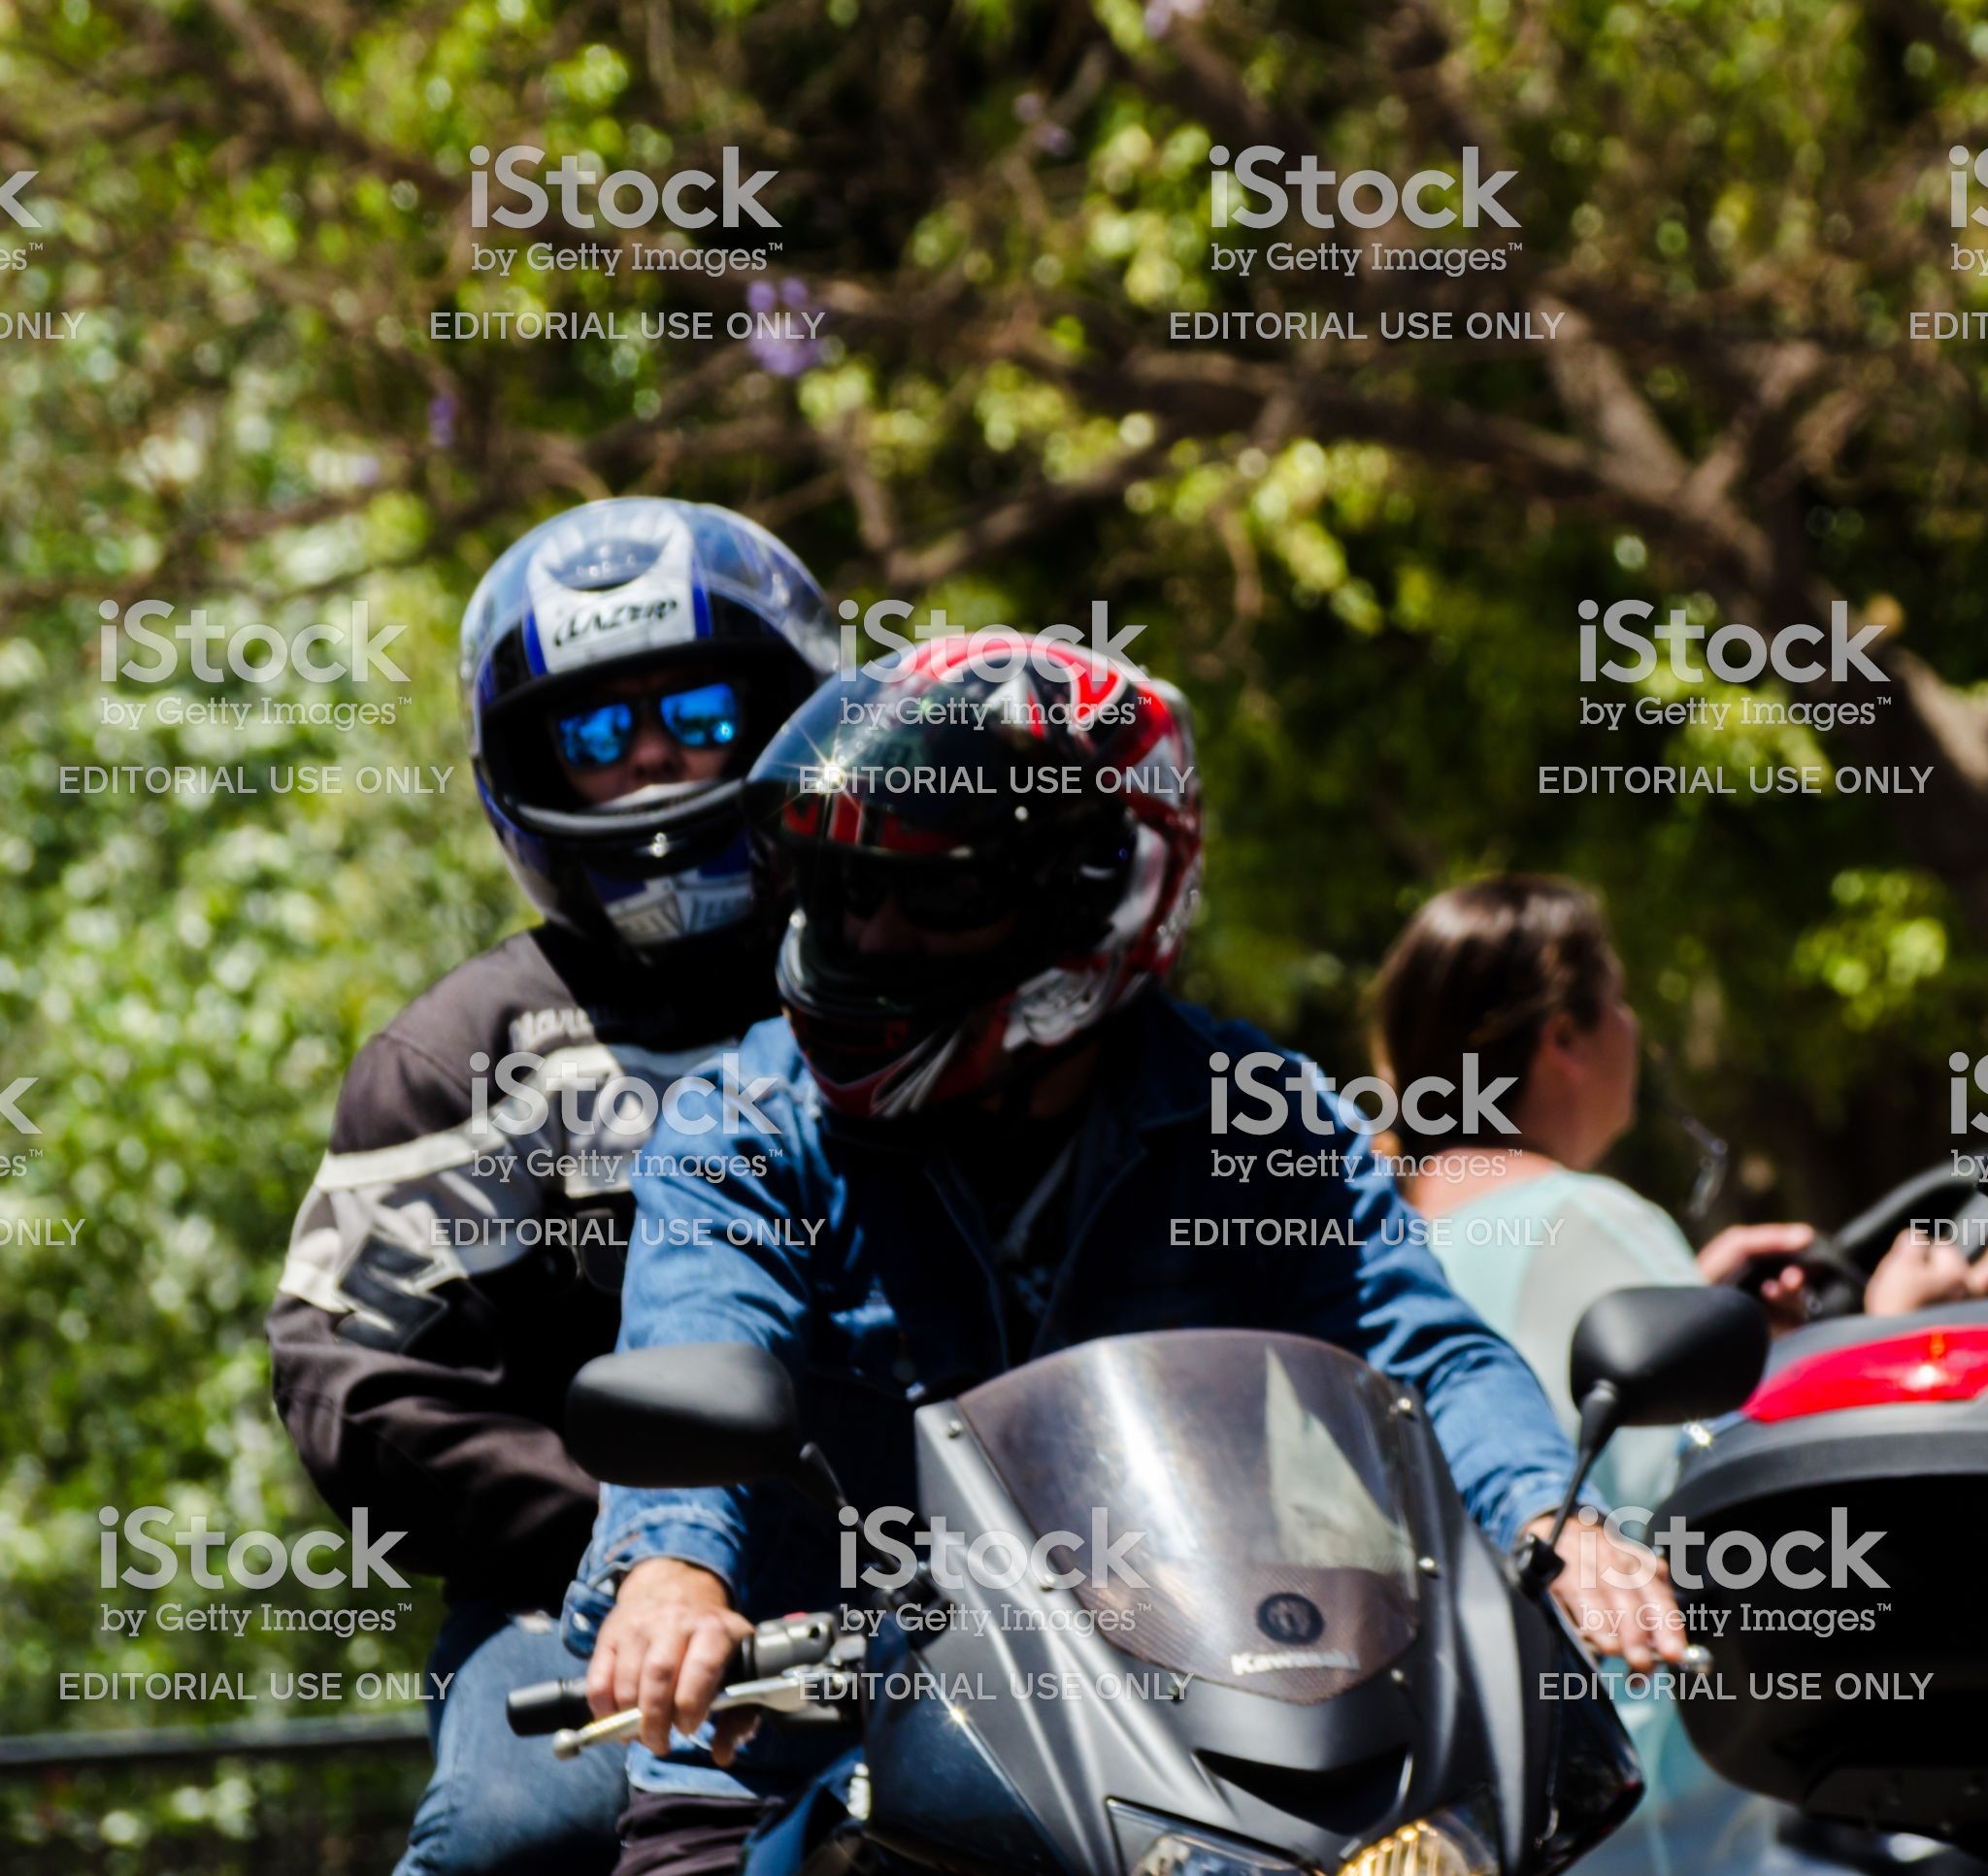helmet: (729, 601, 1191, 1107), (432, 487, 870, 919)
